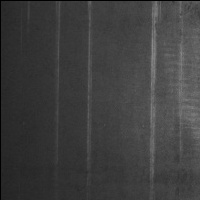scratches: (148, 1, 161, 189), (84, 2, 97, 184), (53, 2, 63, 166)
